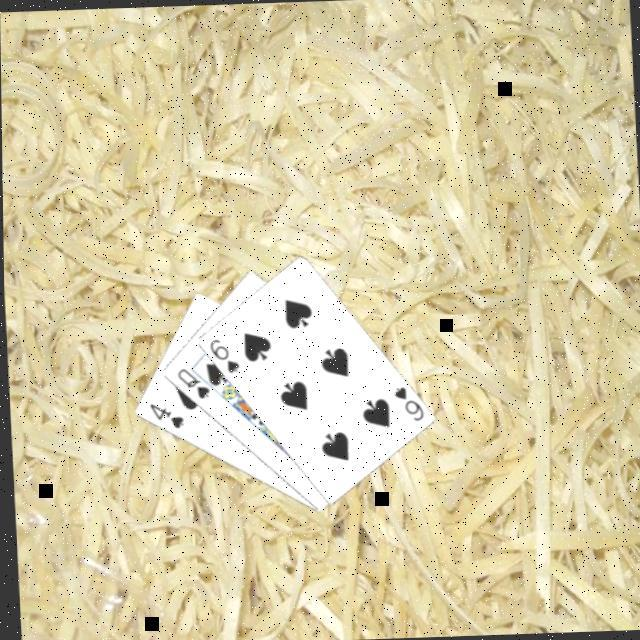4S: (142, 397, 183, 430)
6S: (202, 333, 237, 375), (387, 381, 422, 423)
QS: (170, 361, 209, 400)
